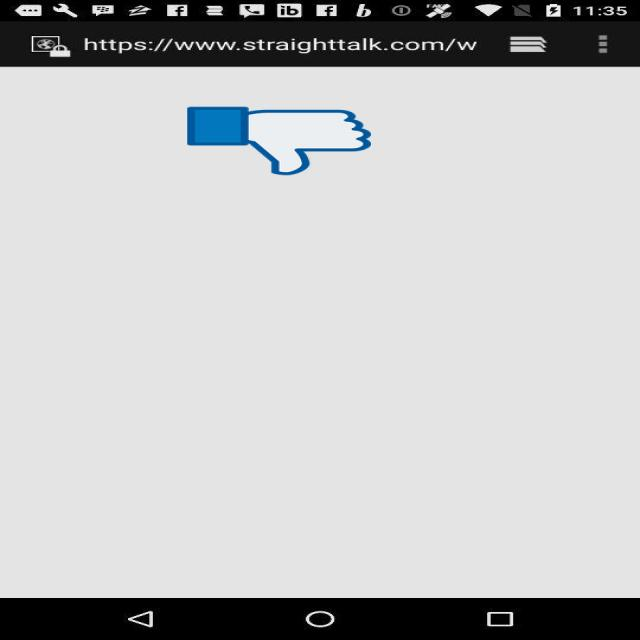obstruction: (187, 105, 371, 177)
